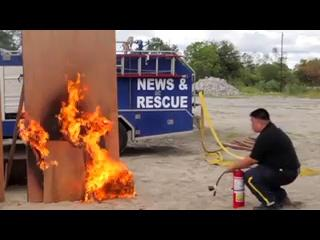Fire: (3, 53, 140, 204)
